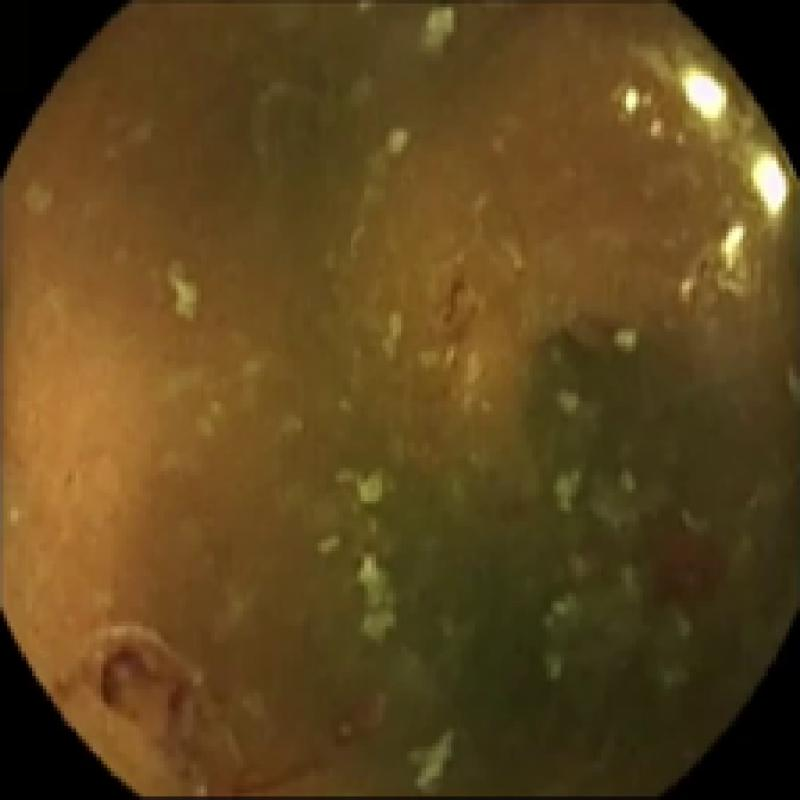bleeding: (89, 643, 254, 784)
